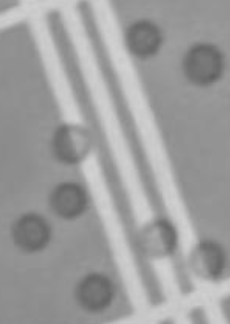cell: (45, 119, 96, 167), (130, 214, 178, 263), (179, 39, 225, 88), (70, 269, 119, 315), (120, 15, 166, 62), (6, 210, 53, 255), (184, 235, 227, 284), (46, 177, 91, 222)
